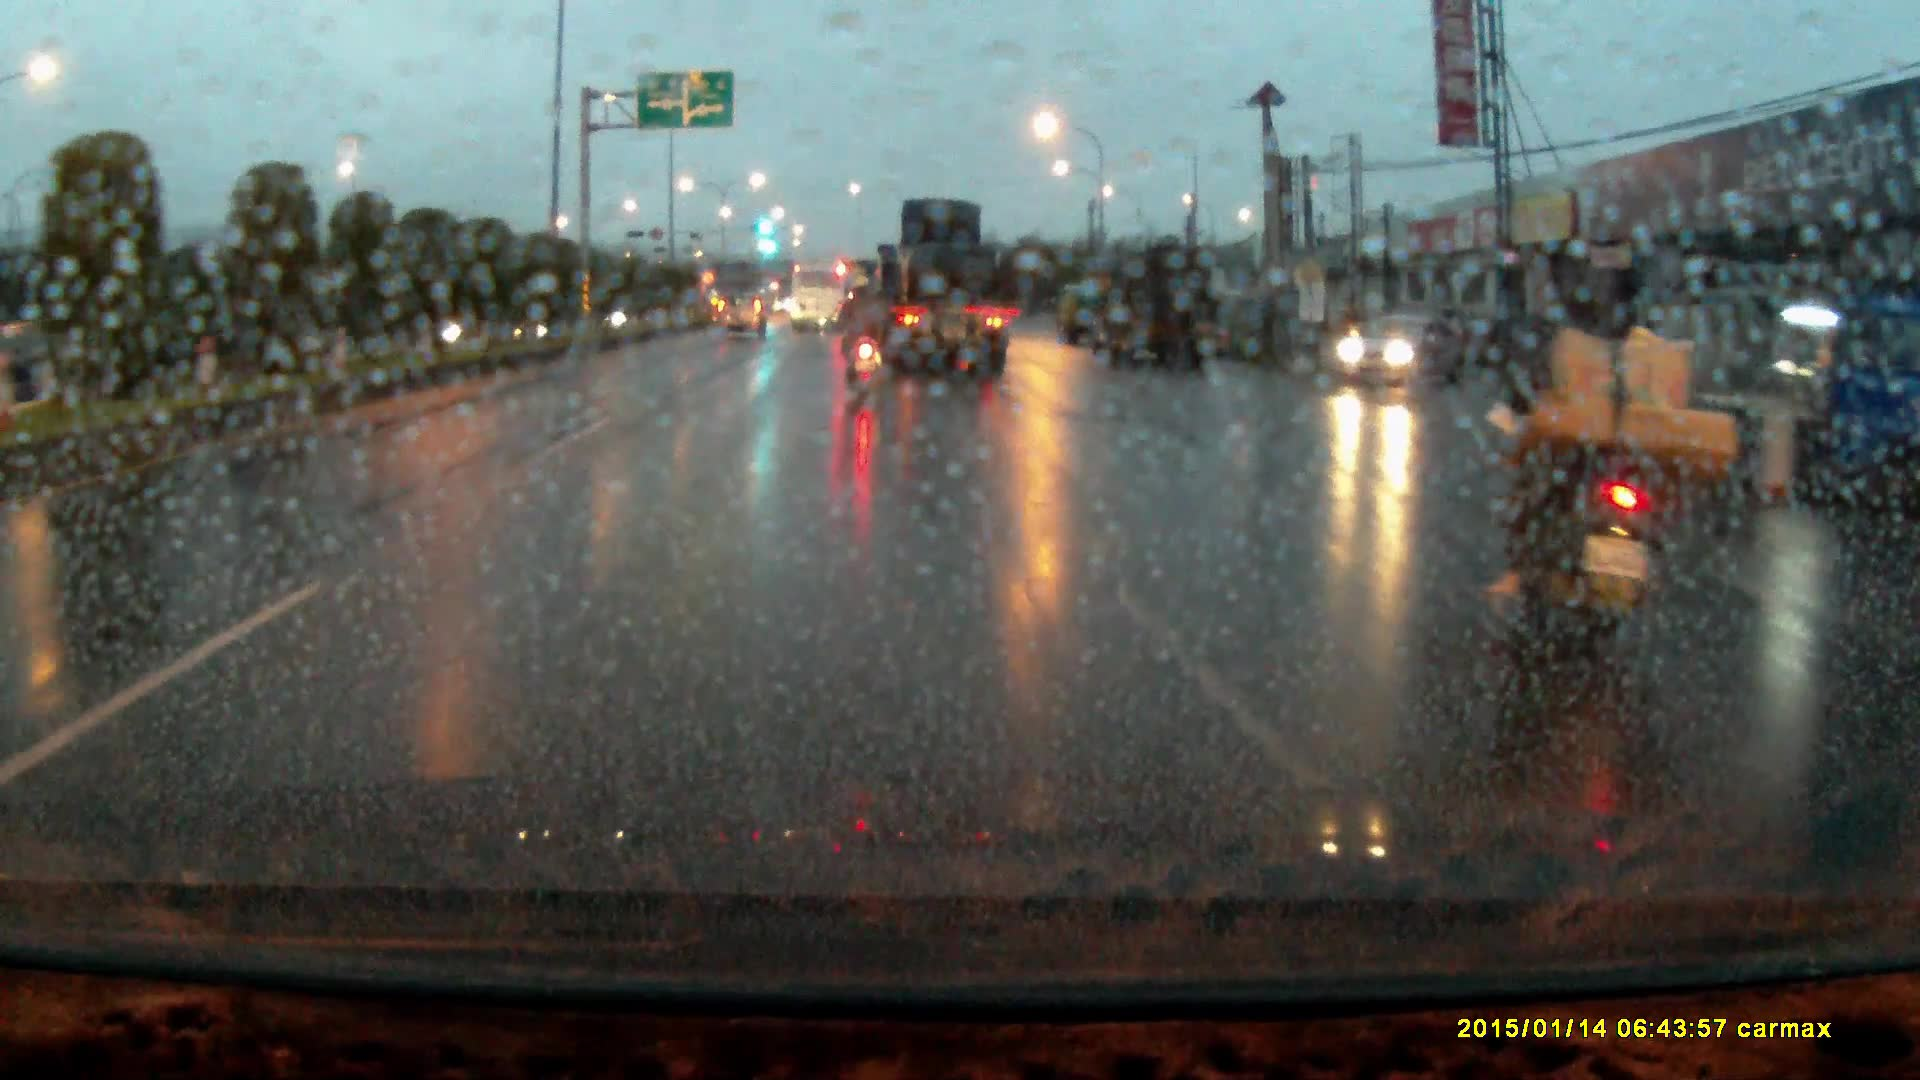rider: (1483, 249, 1759, 669), (838, 268, 893, 391)
vehicle: (1675, 289, 1920, 500), (865, 196, 1004, 374), (1099, 243, 1228, 370), (1334, 312, 1454, 386), (791, 261, 854, 331), (1055, 279, 1108, 341), (716, 286, 769, 337)
